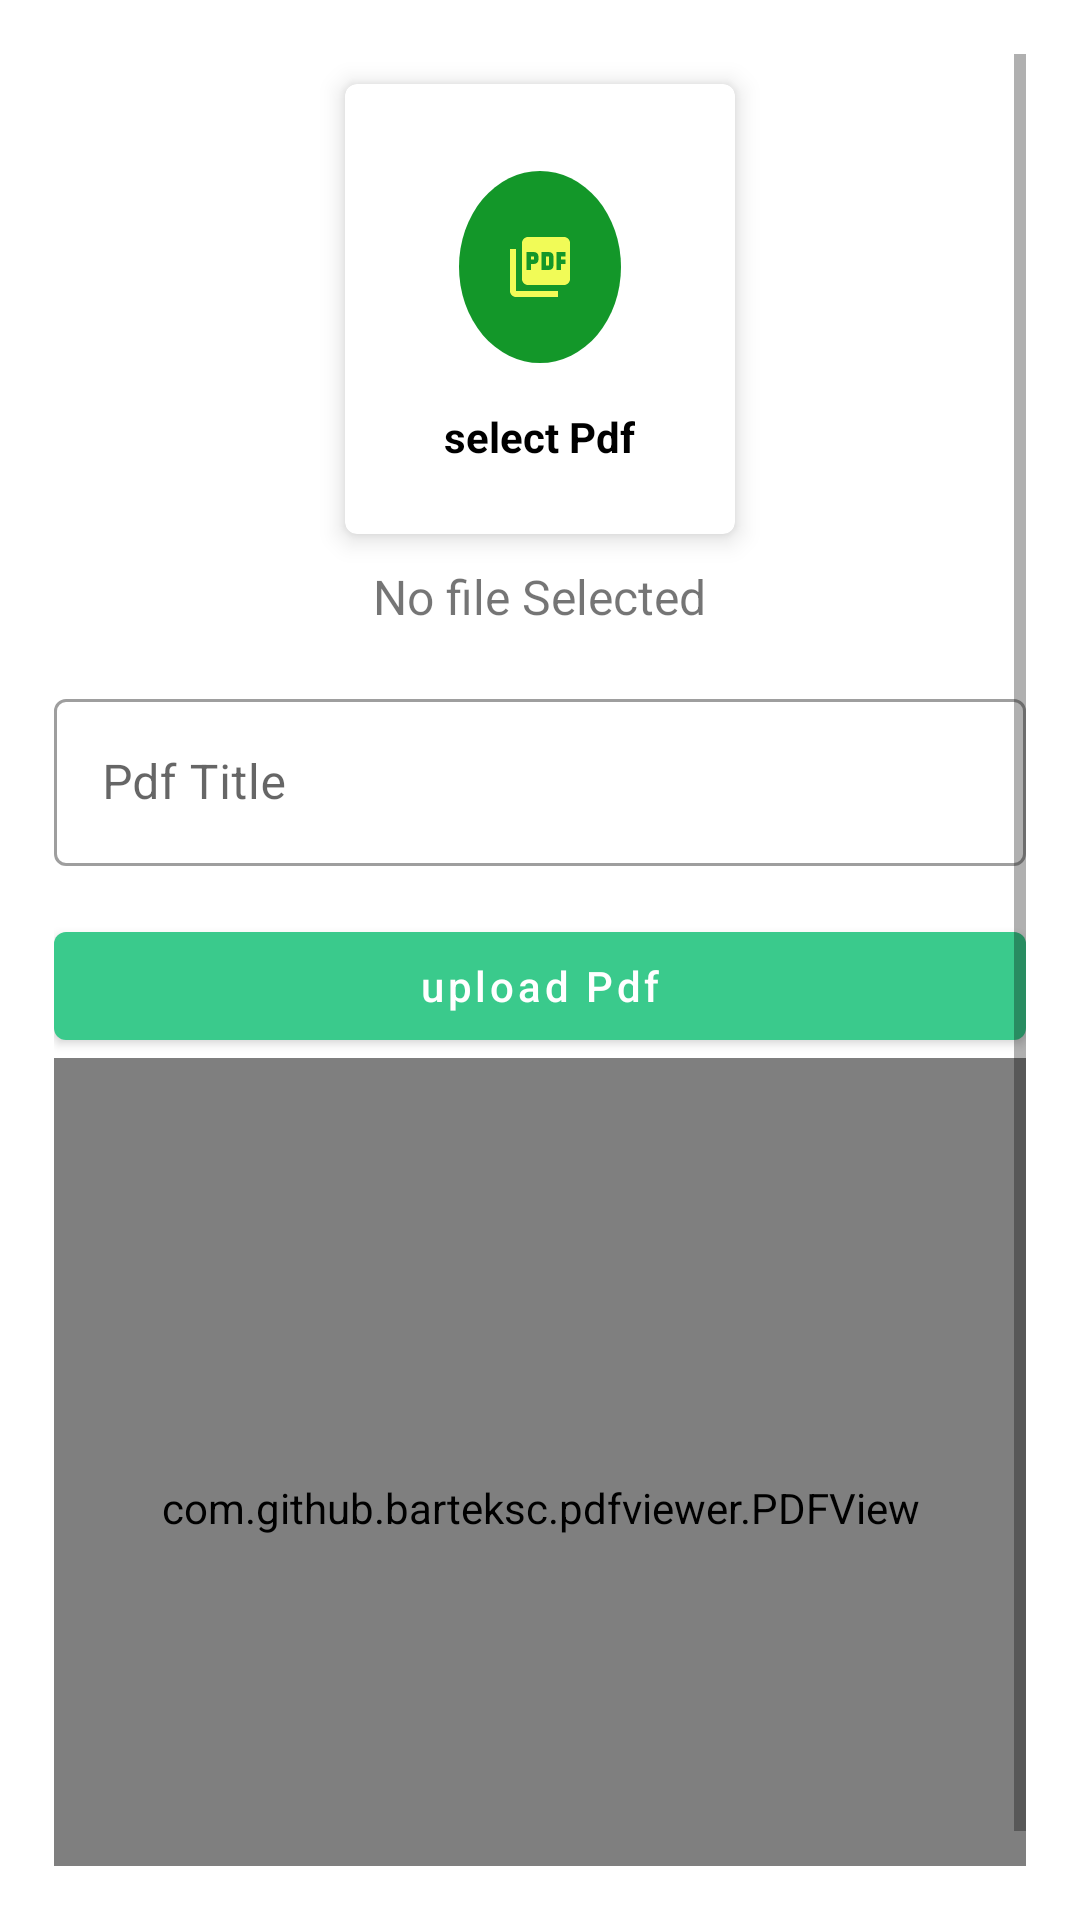

Icon bounding boxes for this 1080px x 1920px phone screenshot, format box(x1, y1, x2, y2):
picture as pdf: box(459, 171, 621, 363)
